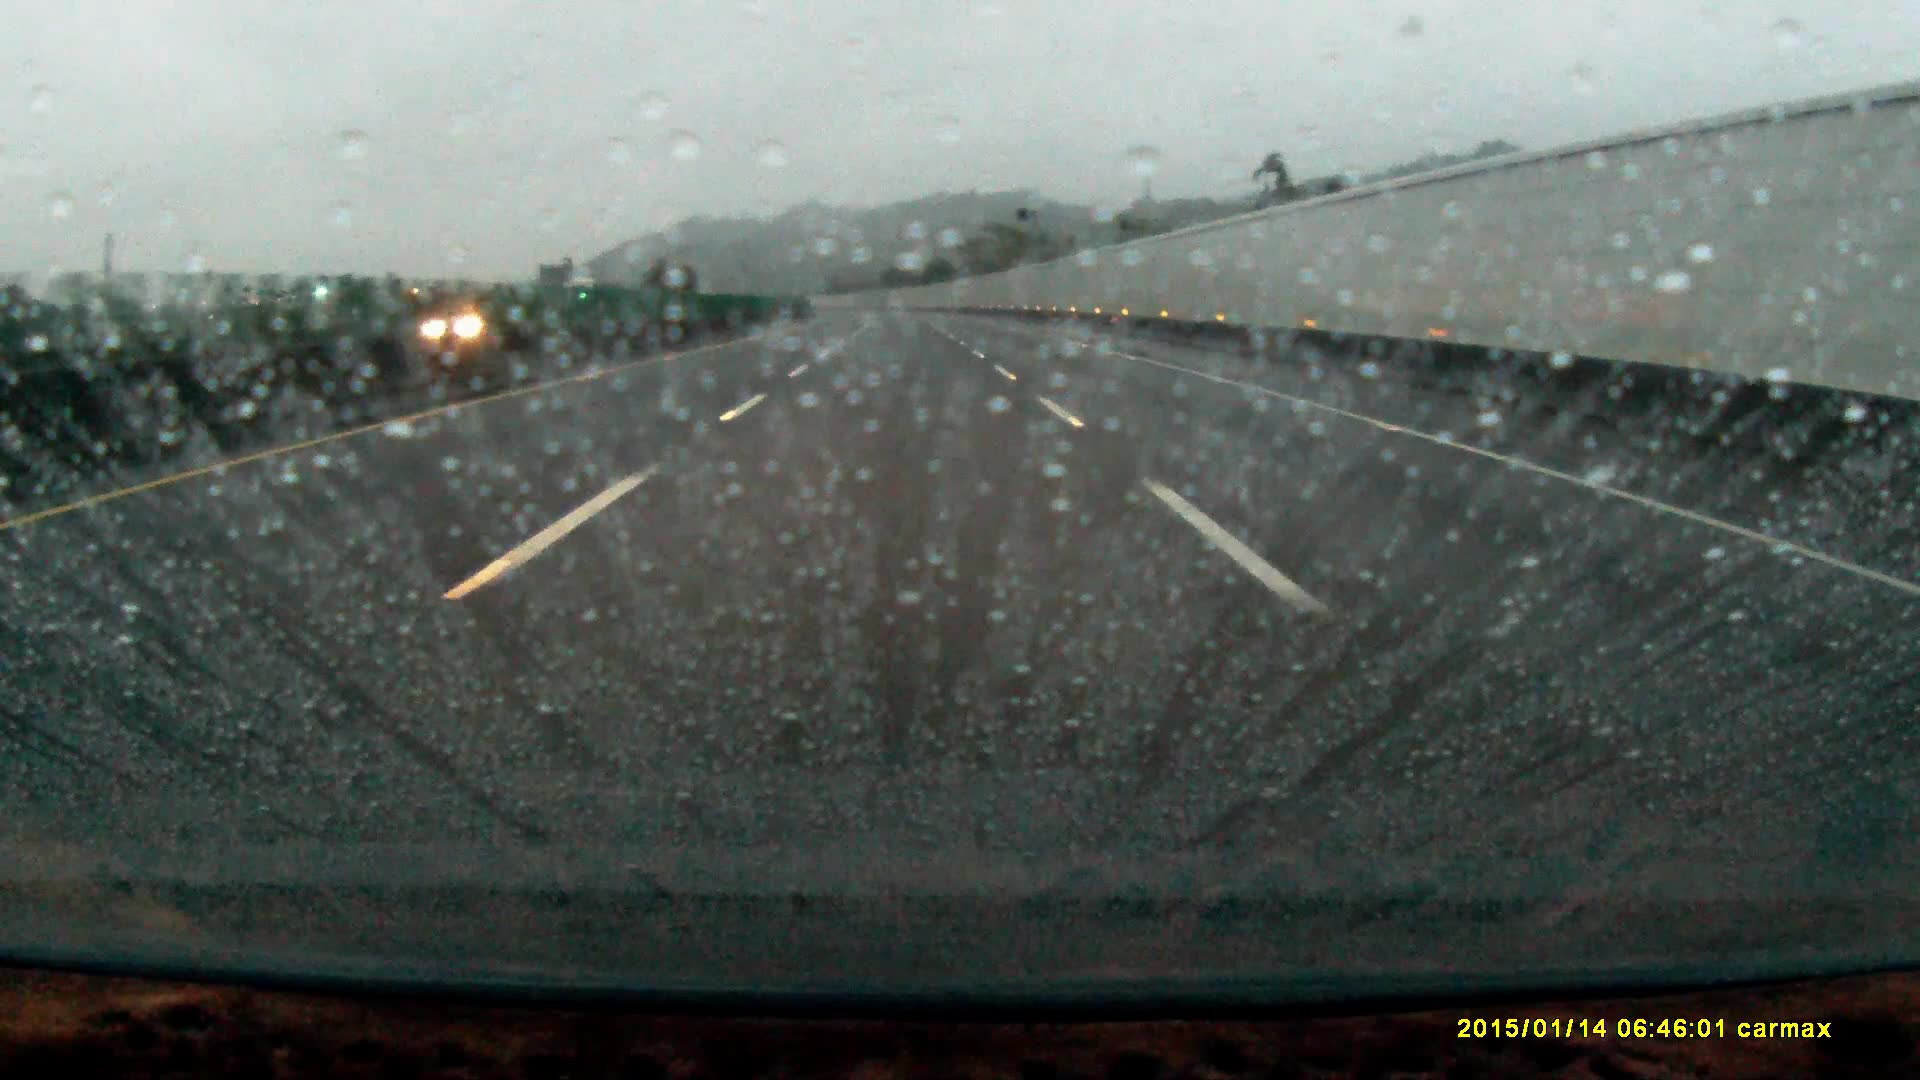vehicle: (425, 302, 506, 340)
